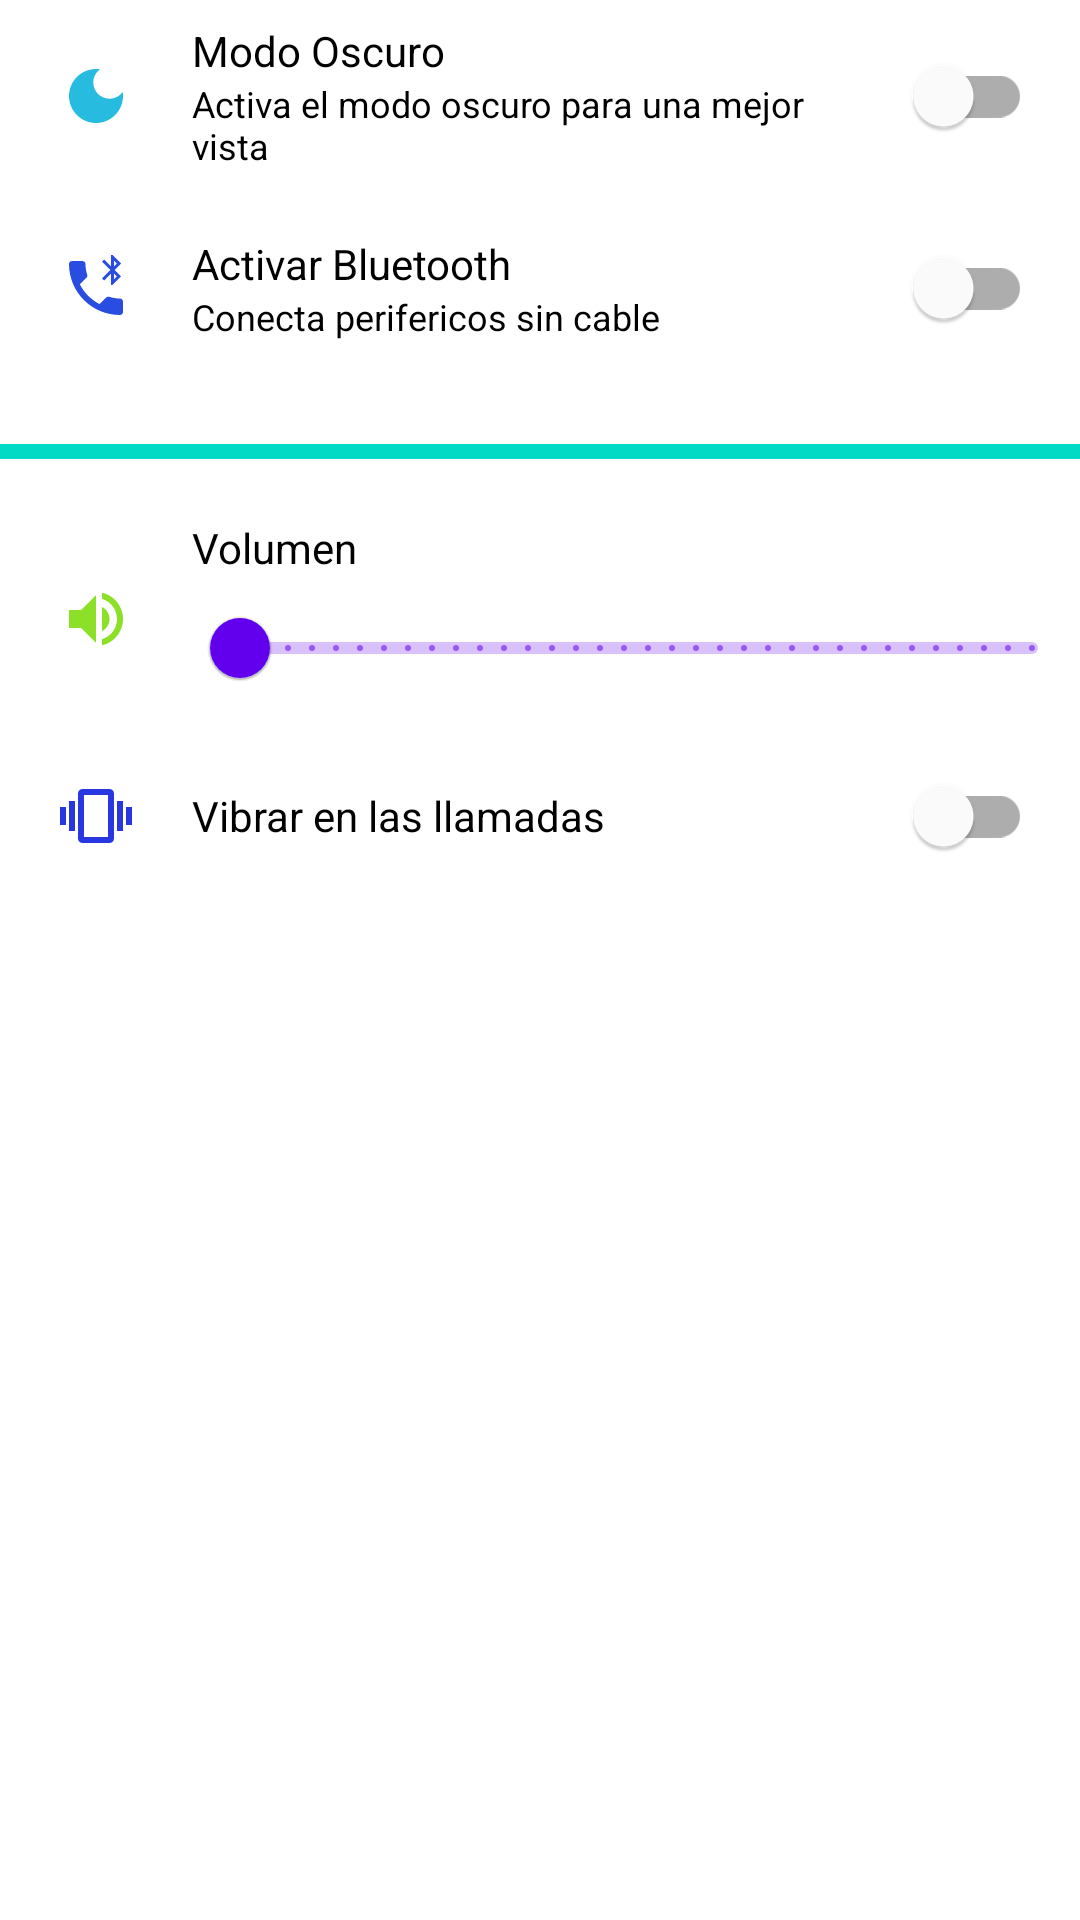

Screen size 1080px×1920px. Icon name, then its box in pixels as (x1, y1, x2, y2):
luna: (69, 69, 123, 123)
phone: (69, 255, 123, 315)
vibration: (60, 789, 132, 843)
